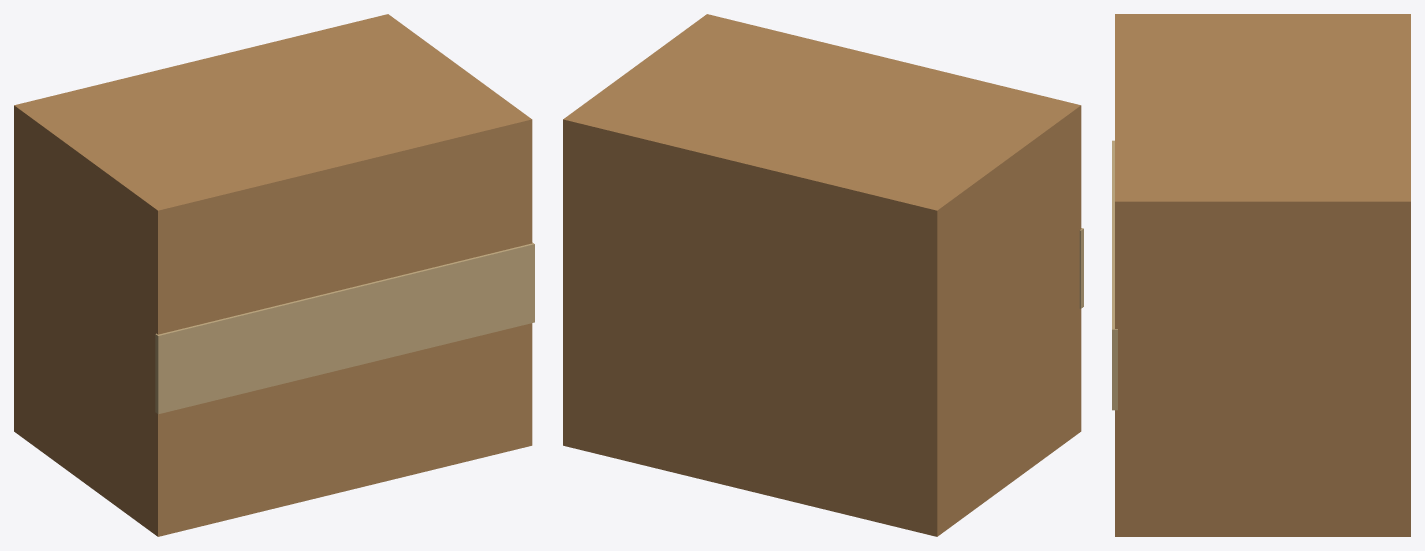
3 views of the same model, side by side, from view 1: azimuth 30°, elevation 25°; view 2: azimuth 150°, elevation 25°; view 3: azimuth 270°, elevation 25° (orthographic). The views are drawn at different scales.
Parts seen in each view (by area): view 1: part_1, part_0; view 2: part_1; view 3: part_1, part_0.
Boxes of the visible parts, <box> form: part_1: <box>14,14,532,536</box>; part_0: <box>155,242,534,414</box>; part_1: <box>563,14,1081,536</box>; part_1: <box>1115,14,1410,536</box>; part_0: <box>1112,140,1117,410</box>.
Bounding box in the file's own units: 0.302 × 0.25 × 0.202.
